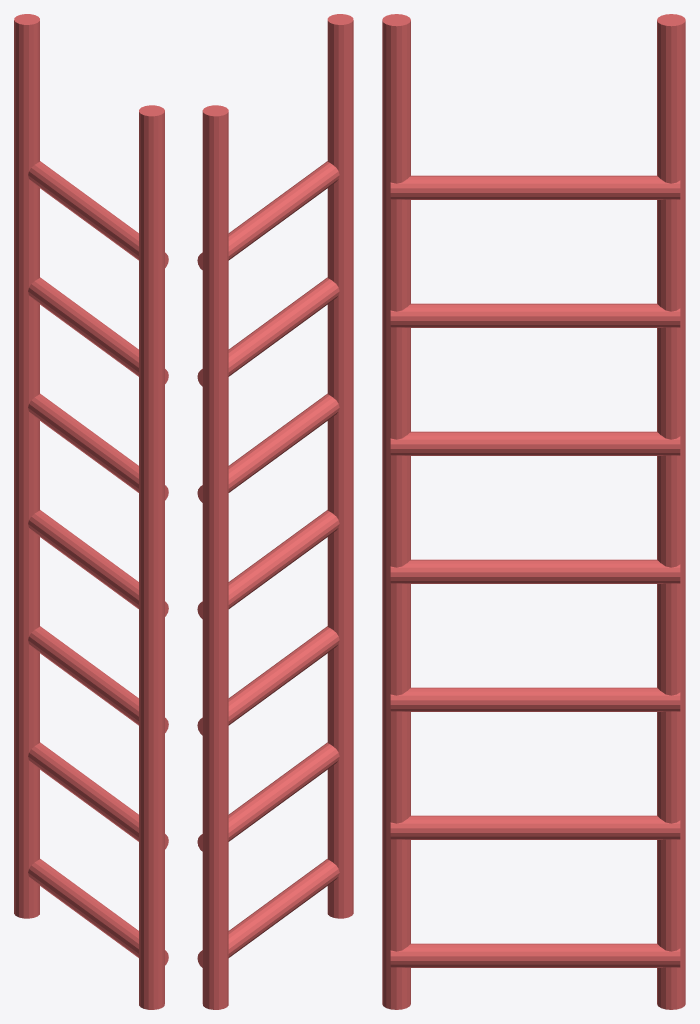
The model's file is Ladder.fbx.
The picture shows the model from 3 angles, left to right: view 1: azimuth 30°, elevation 25°; view 2: azimuth 150°, elevation 25°; view 3: azimuth 270°, elevation 25°; orthographic projection. The views are drawn at different scales.
Visible parts, largest first — view 1: Cylinder; view 2: Cylinder; view 3: Cylinder.
Boxes of the visible parts, x1=… form: Cylinder: x1=14, y1=14, x2=168, y2=1009; Cylinder: x1=197, y1=14, x2=353, y2=1009; Cylinder: x1=382, y1=14, x2=685, y2=1009.
Size of the model in its own units: 412 by 13759 by 3849.
